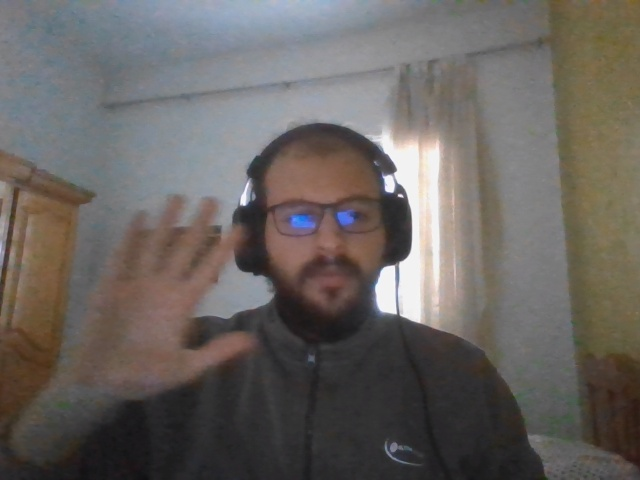Hello: (67, 195, 252, 399)
